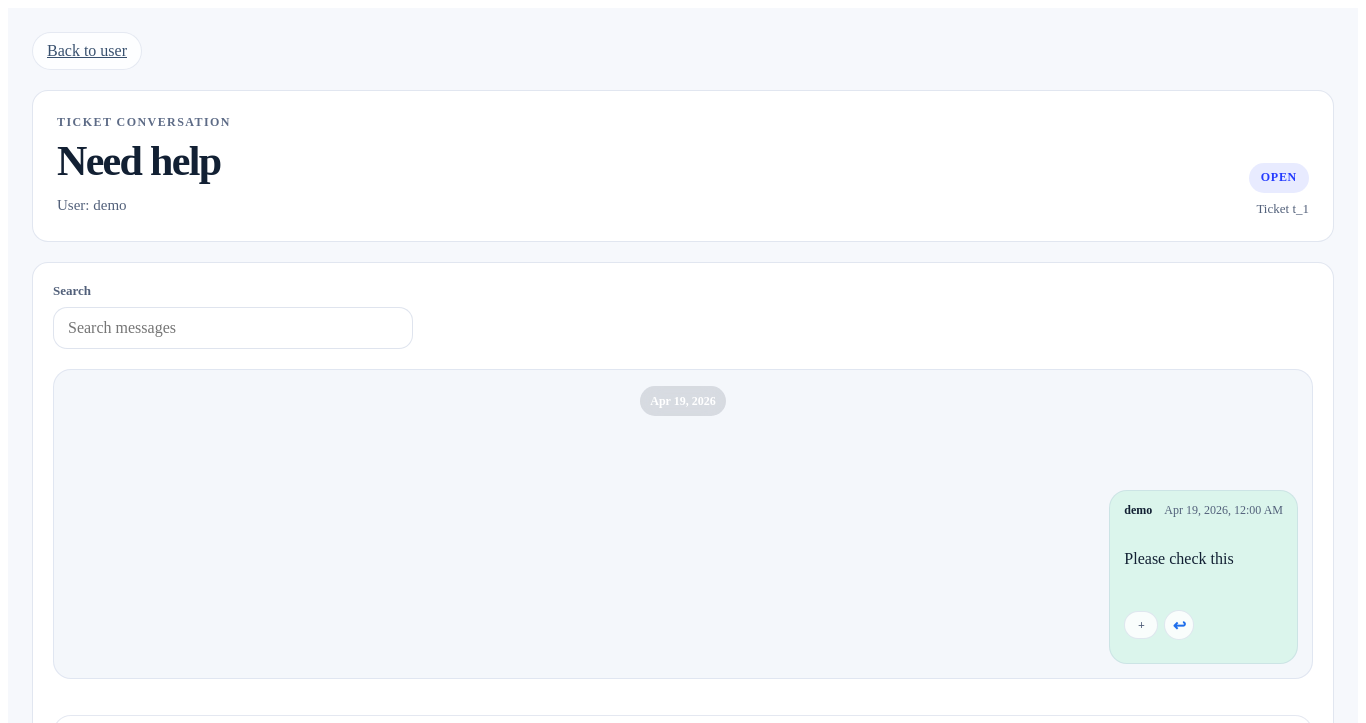
Scenario: support-admin ticket chat page › selects one reaction from a telegram-style reaction picker
The image size is (1366, 723).
Click the button named "Choose reaction". click: (1141, 625)
box: [1124,611,1158,639]
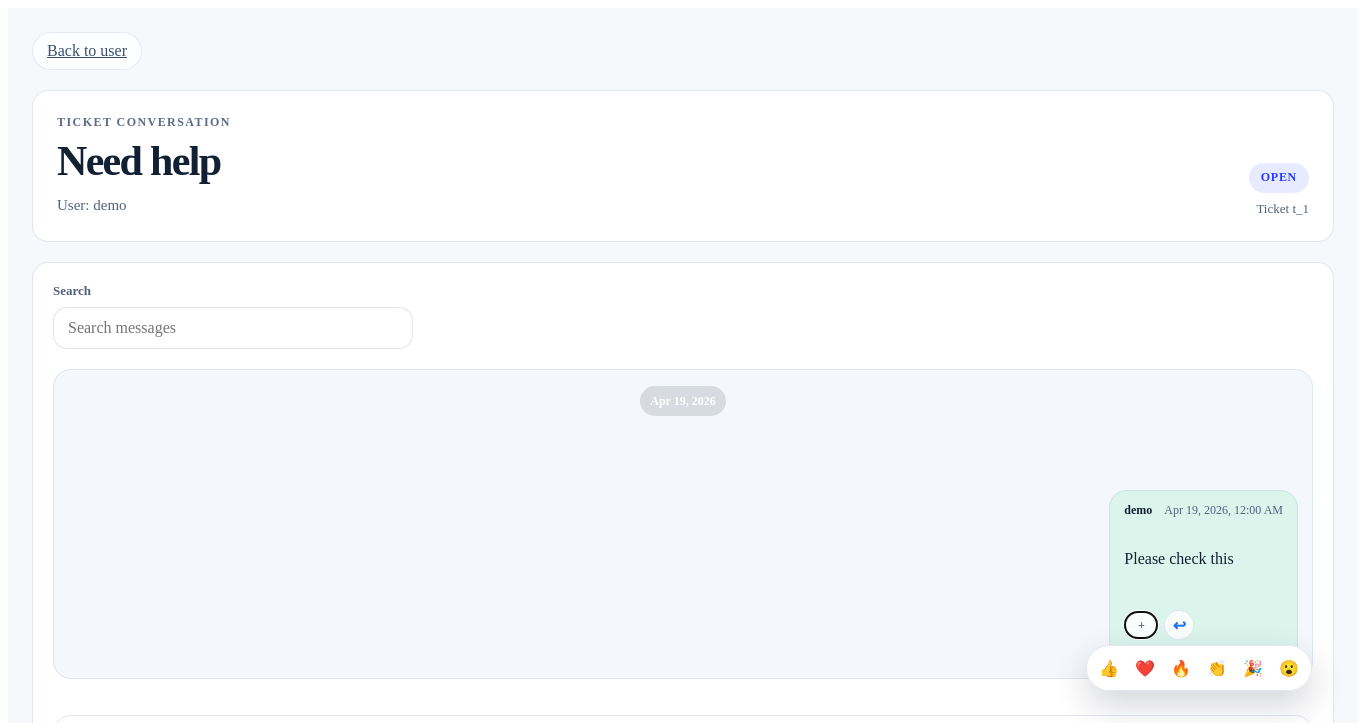
Check: the button named "React with thumbs up" is shown, box [1093,652,1125,684]
Click the button named "React with fire". click: (1181, 668)
box: [1165,652,1197,684]
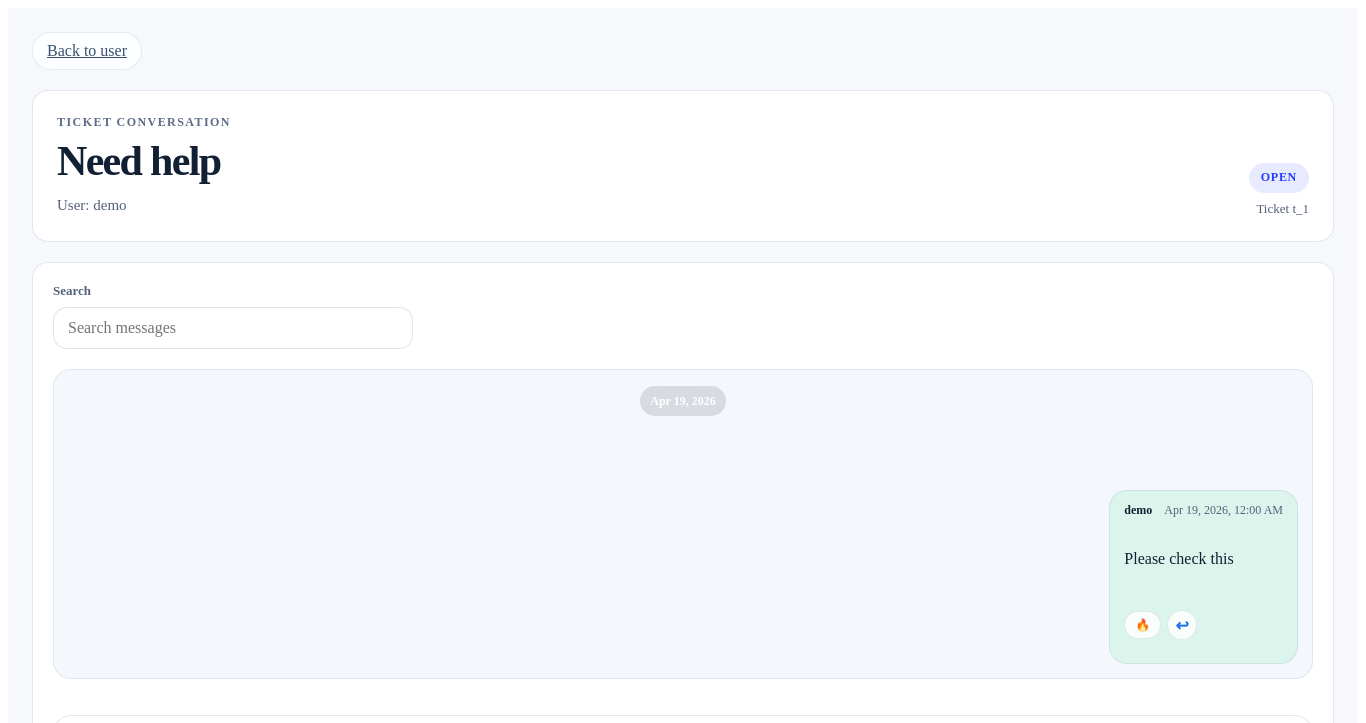
Check: the button "🔥" is shown, box [1124,611,1161,639]
Check: the button "👍" is gone
